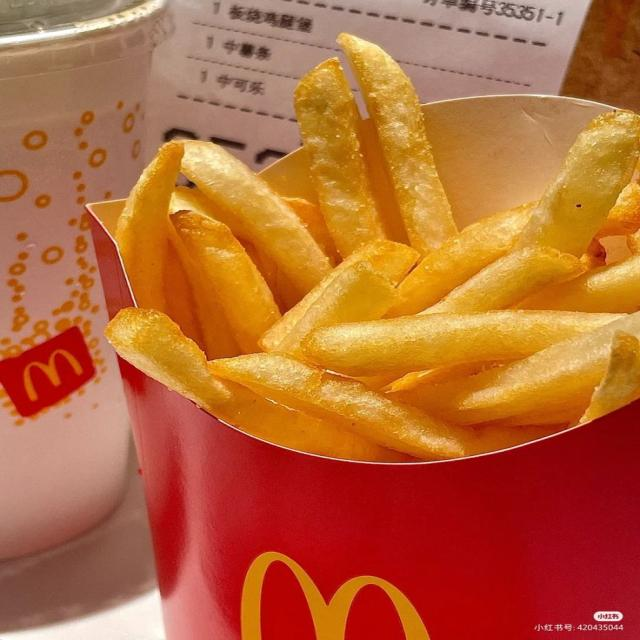potato fries: (107, 34, 639, 461), (106, 308, 406, 461), (394, 312, 639, 424), (211, 354, 464, 459), (339, 34, 457, 253), (182, 141, 331, 293), (304, 311, 621, 376), (295, 59, 384, 257), (260, 241, 419, 351), (519, 111, 639, 256), (388, 205, 533, 317), (171, 212, 279, 352), (116, 143, 182, 310), (276, 265, 396, 356), (421, 247, 584, 313), (169, 222, 241, 358), (520, 256, 639, 312), (580, 332, 639, 422), (164, 226, 204, 345), (383, 361, 506, 392), (283, 198, 339, 262), (466, 426, 560, 455), (596, 183, 639, 238), (581, 239, 606, 270), (627, 231, 639, 255)
